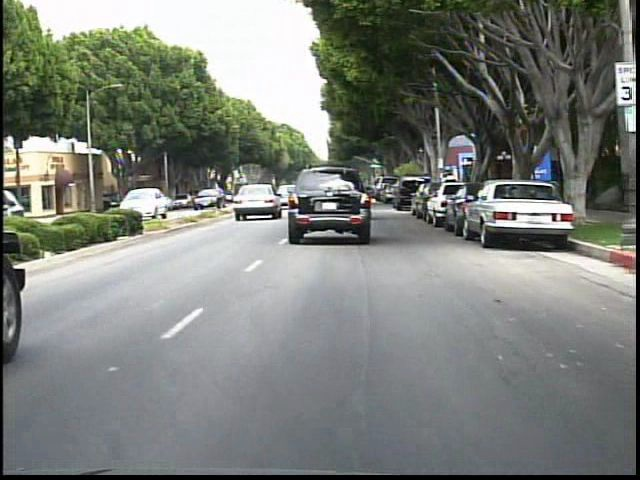person: (445, 169, 460, 206)
